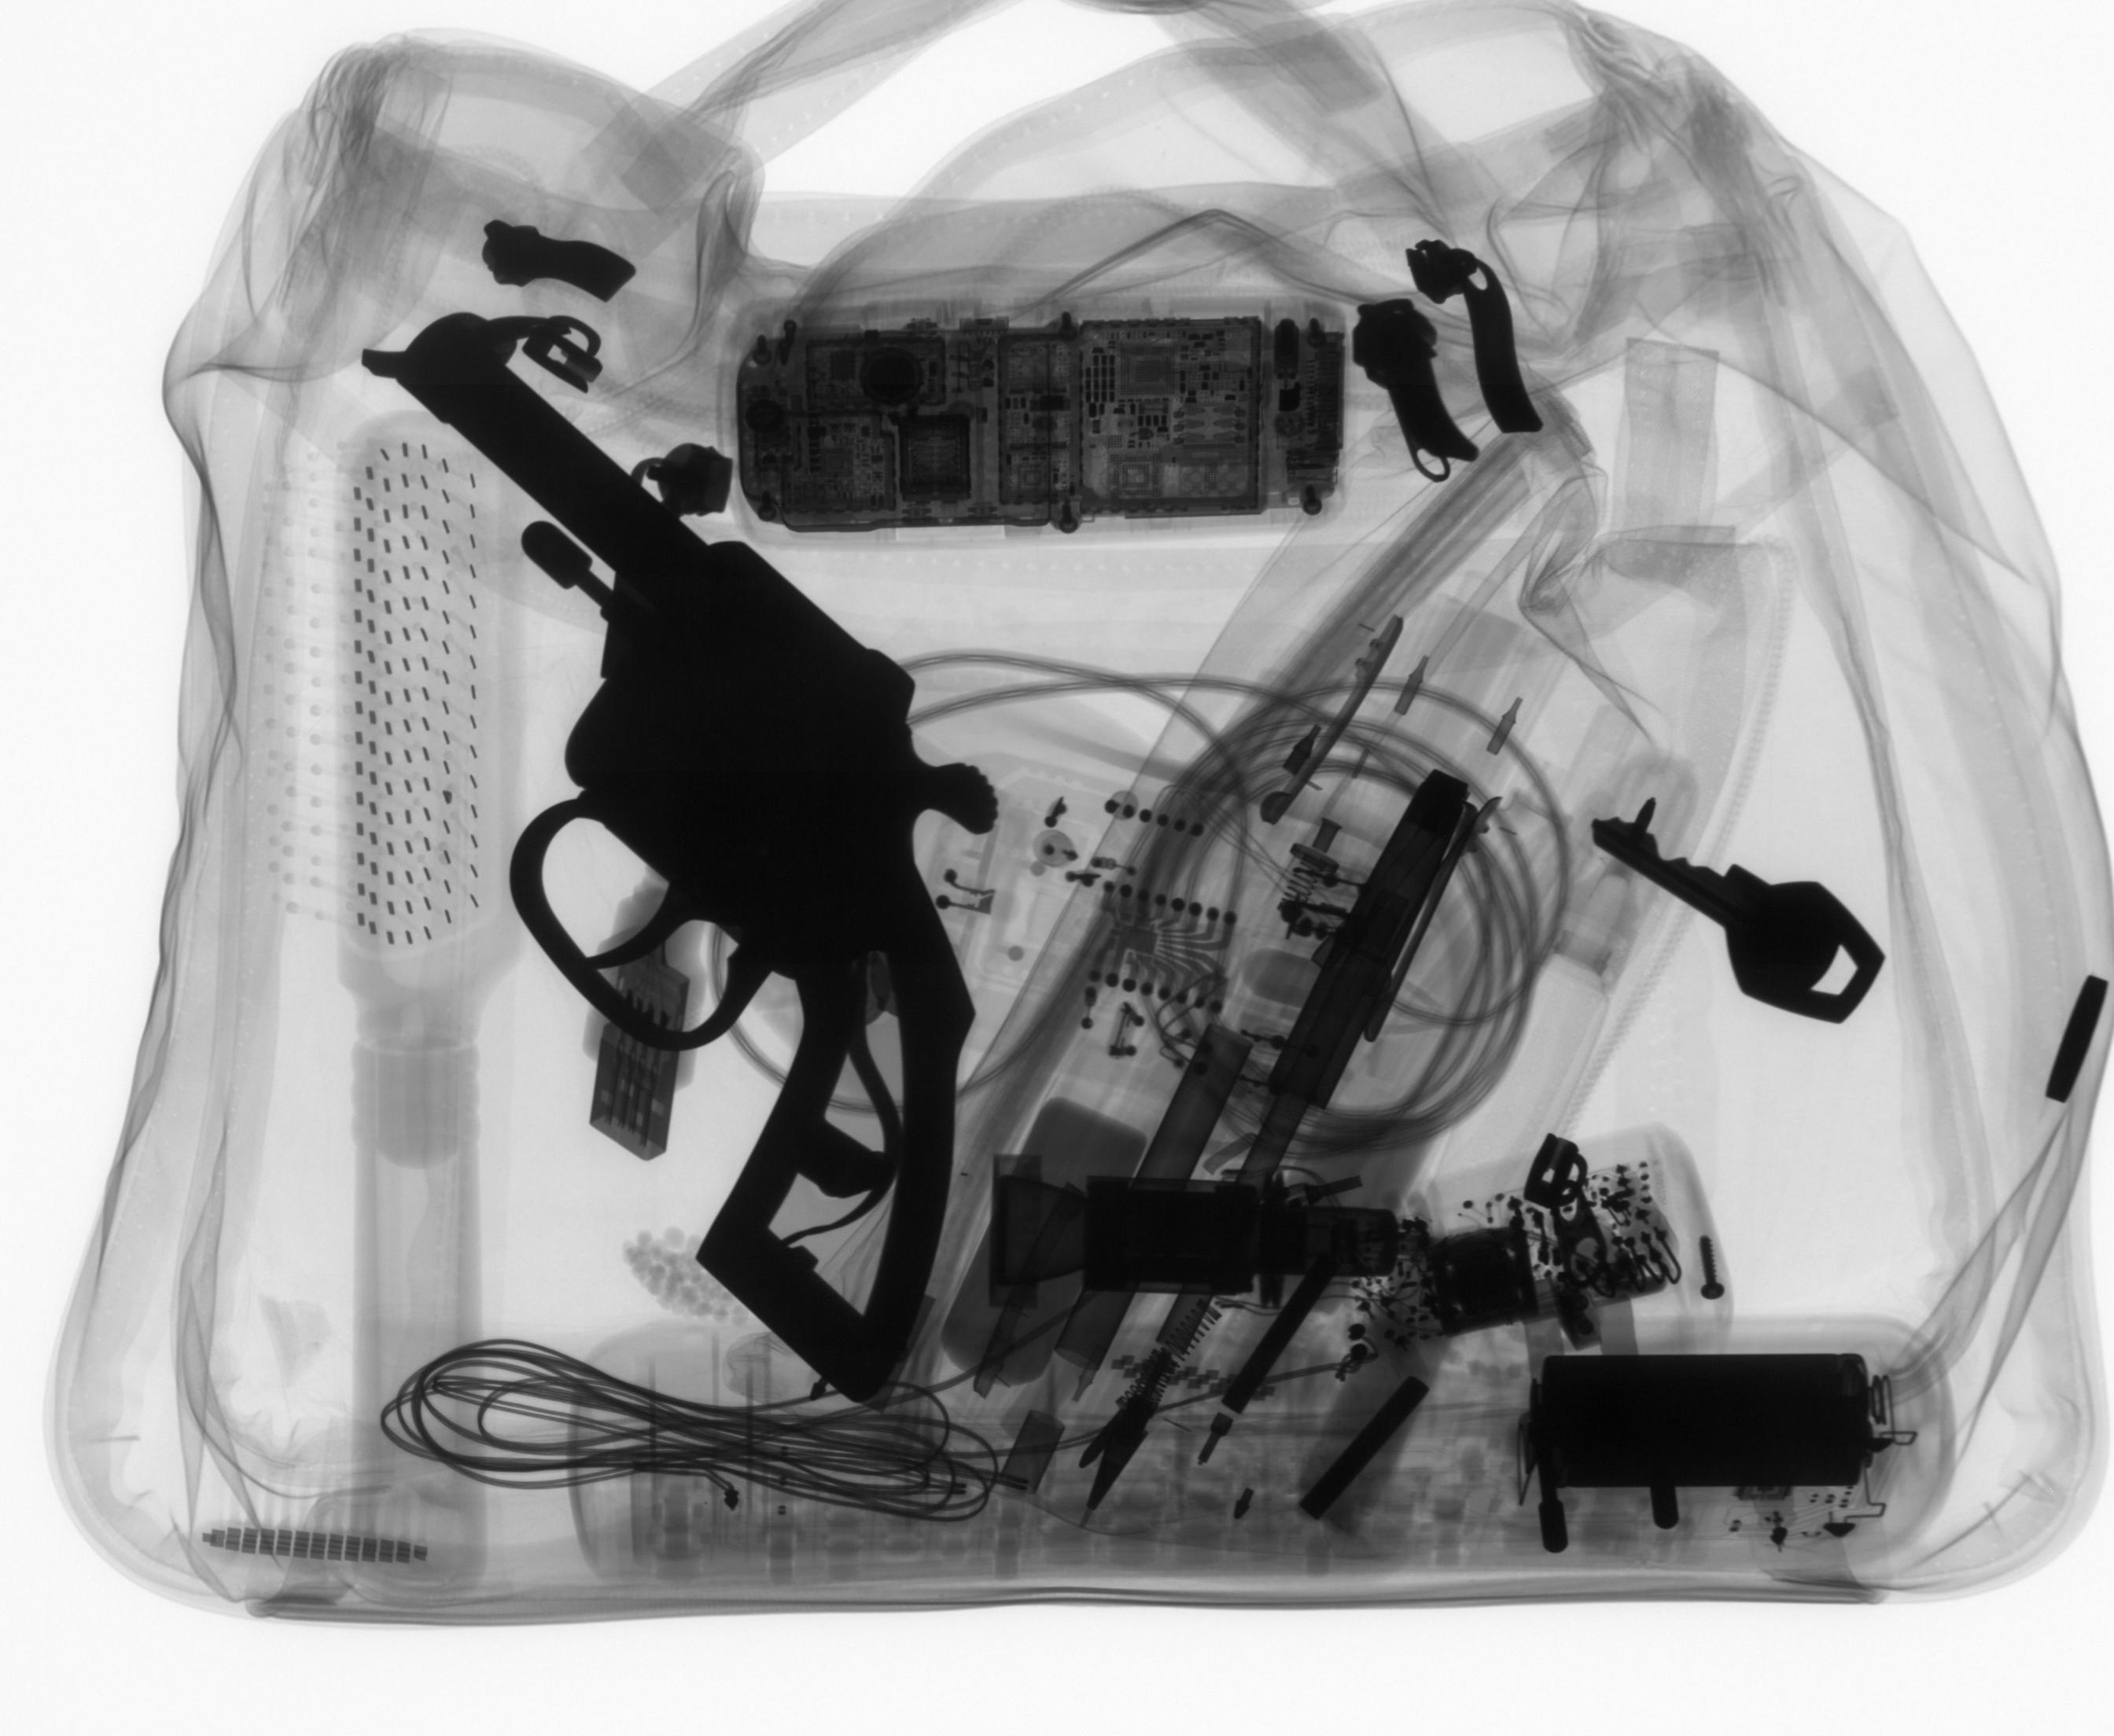Handgun: (383, 302, 1011, 1422)
